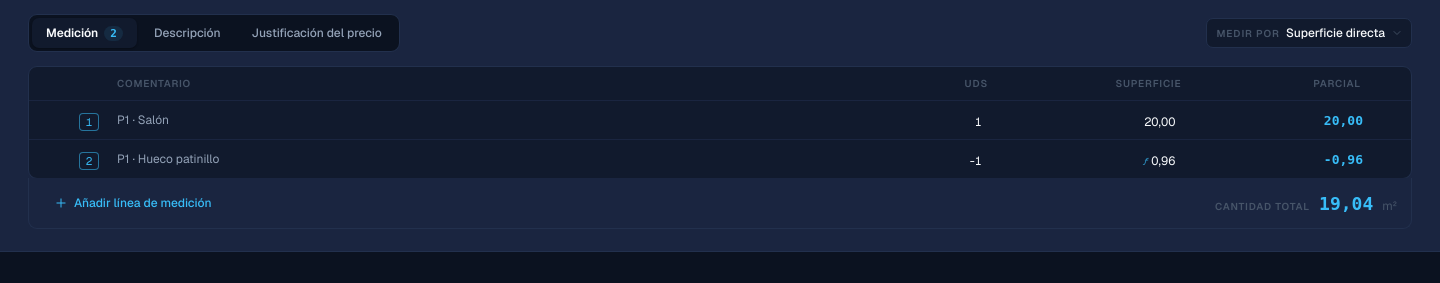
it: marcador de origen › [A1] medida con el PDF anterior del plano: se ve con el actual y lo dice
The image size is (1440, 283).
Click the button named "Línea 1: medida en el plano". click: (89, 122)
box: left=79, top=112, right=99, bottom=130
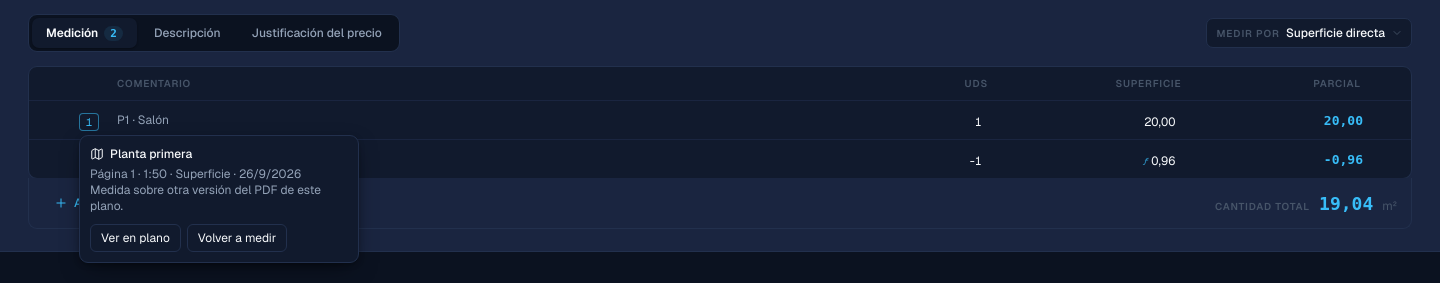
Result: the text "Medida sobre otra versión del PDF de este plano." is shown at left=90, top=182, right=348, bottom=214
Result: the button "Ver en plano" is enabled at left=90, top=224, right=181, bottom=252
